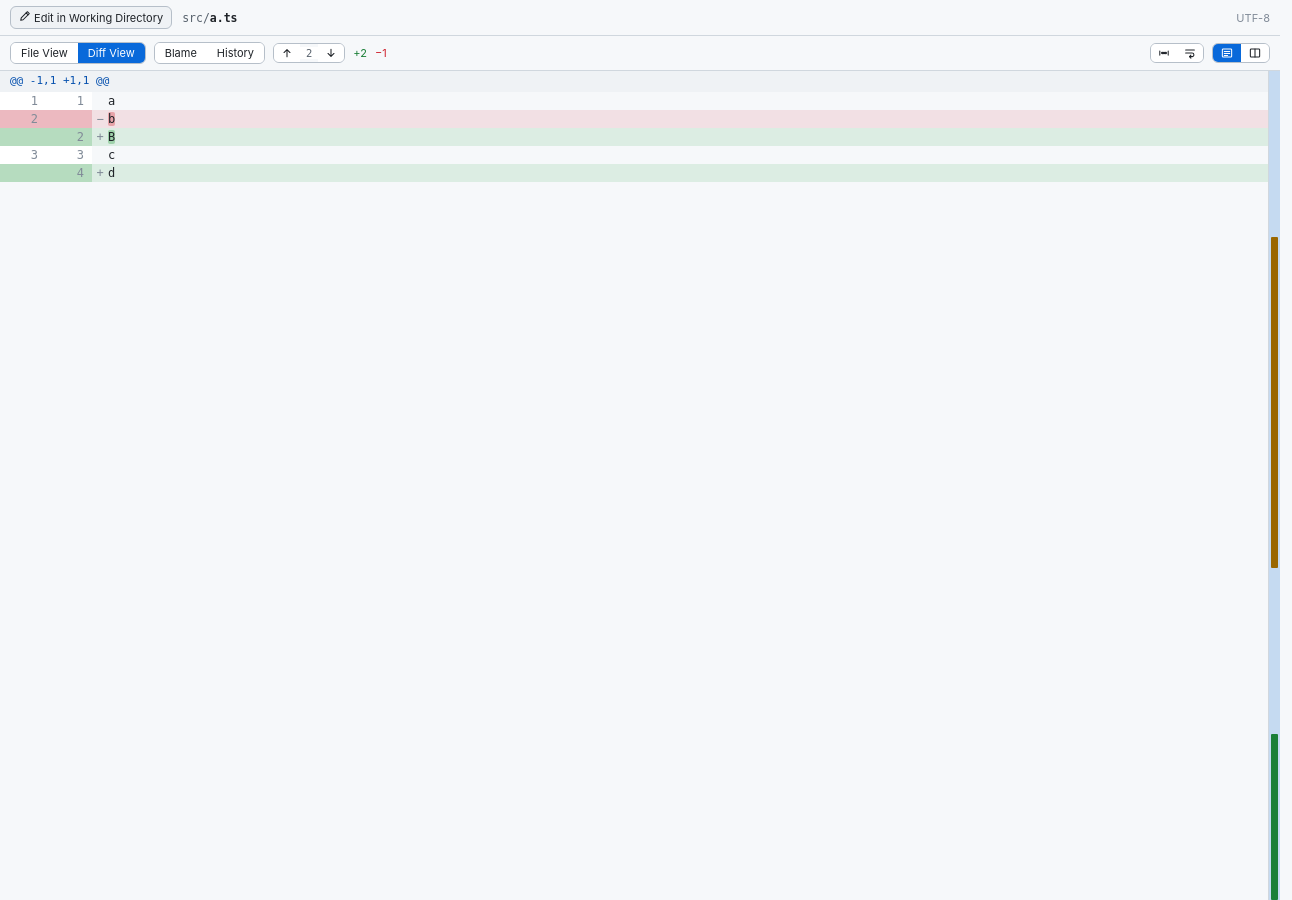
Test: the change stepper › lands on the first change, not the second, on the first press
The image size is (1292, 900).
Click the button named "Next change": click(331, 53) x1=318 y1=44 x2=344 y2=62
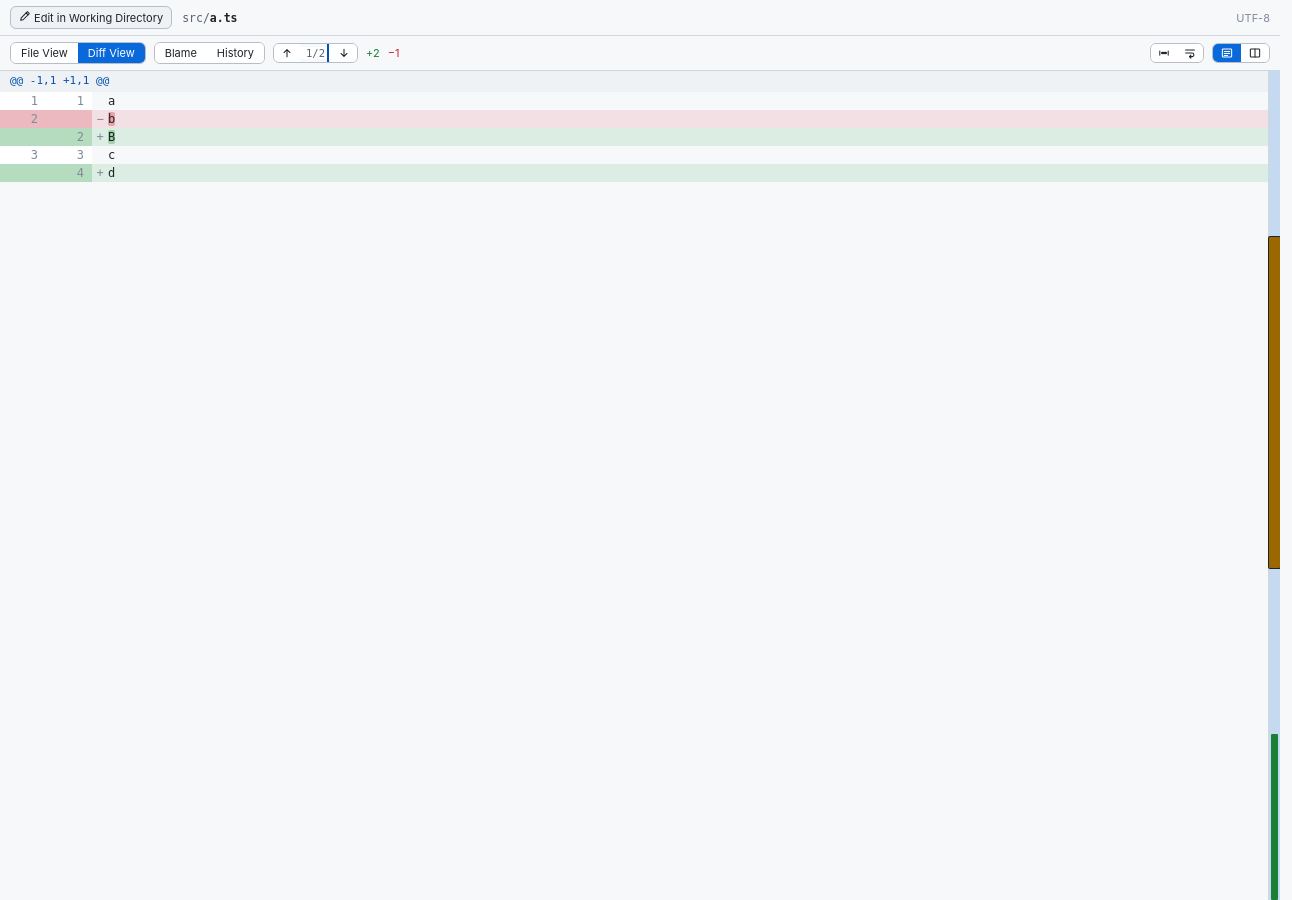
Check: the text "1/2" is shown, box x1=300 y1=47 x2=331 y2=59
